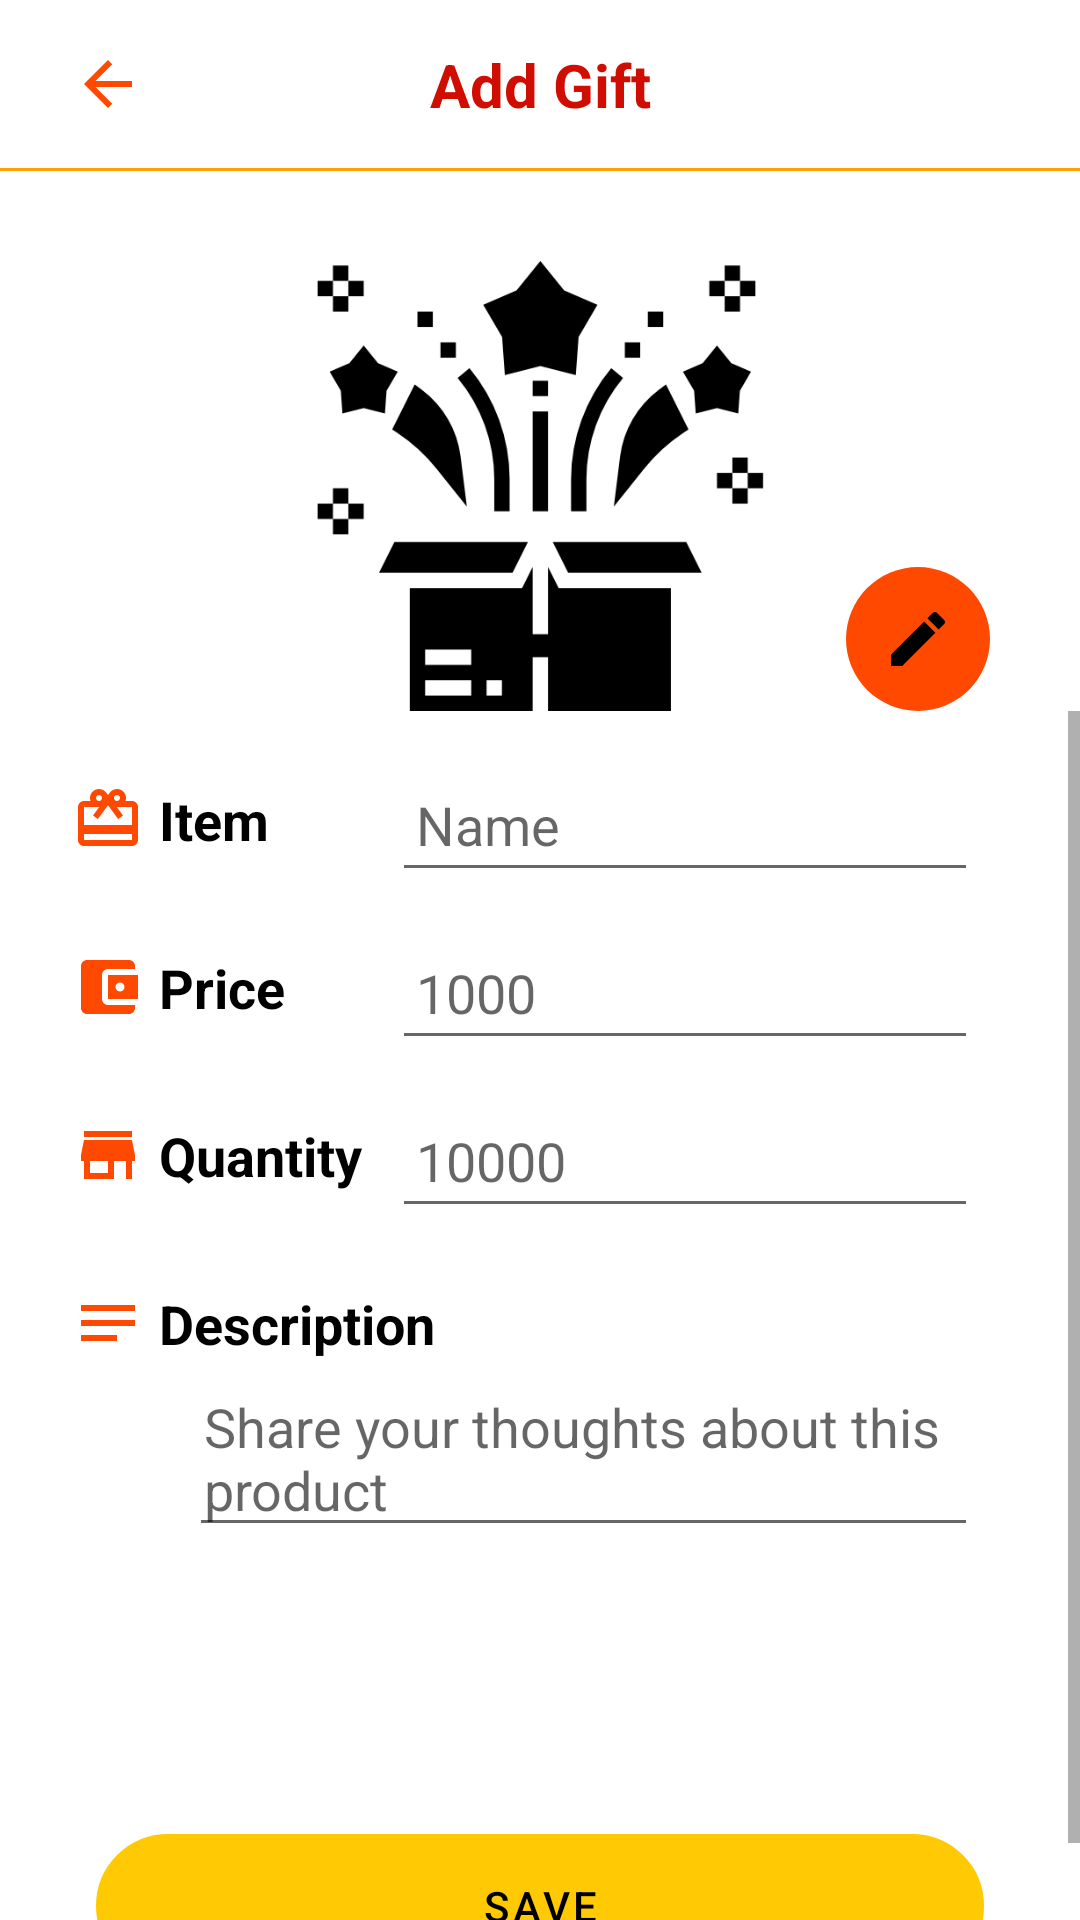

Icons on this 1080x1920 Android screen, each with the point to tap as [x,y]:
arrow back: [108,84]
gift: [108,817]
note: [108,1323]
store: [108,1155]
